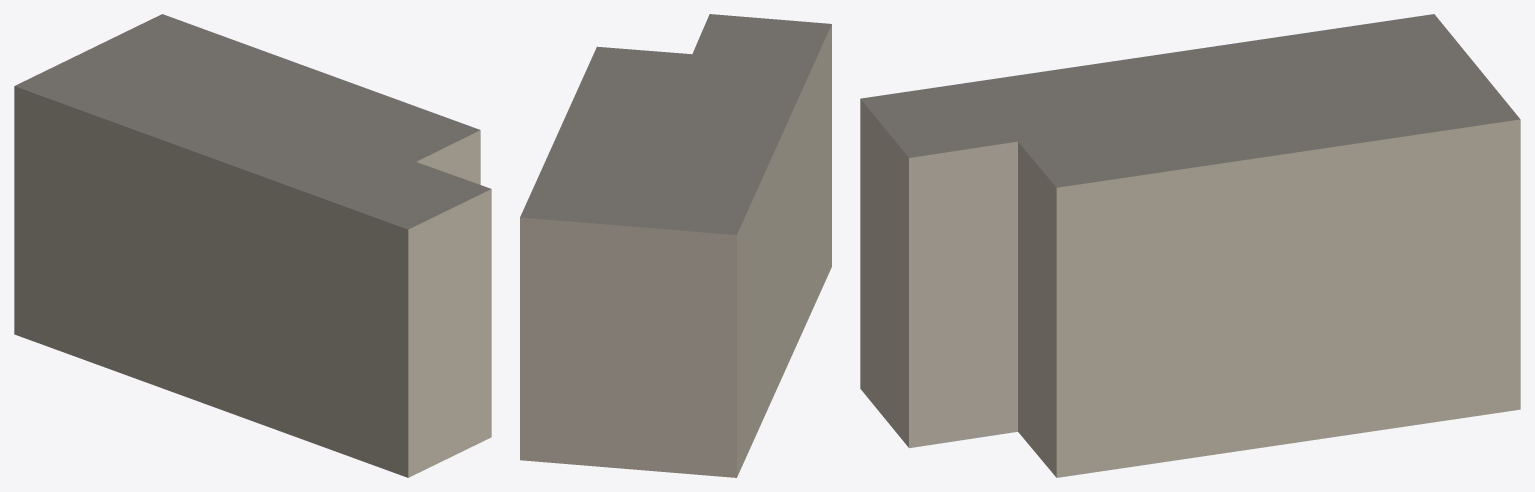
3 views of the same model, side by side, from view 1: azimuth 30°, elevation 25°; view 2: azimuth 150°, elevation 25°; view 3: azimuth 270°, elevation 25° (orthographic). The views are drawn at different scales.
Parts seen in each view (by area): view 1: HP-w1435372647; view 2: HP-w1435372647; view 3: HP-w1435372647.
Part boxes in pixels (x1=…): HP-w1435372647: x1=14, y1=14, x2=491, y2=477; HP-w1435372647: x1=520, y1=14, x2=831, y2=477; HP-w1435372647: x1=860, y1=14, x2=1520, y2=477.
Bounding box in the file's own units: 23.12 × 18 × 37.11.
